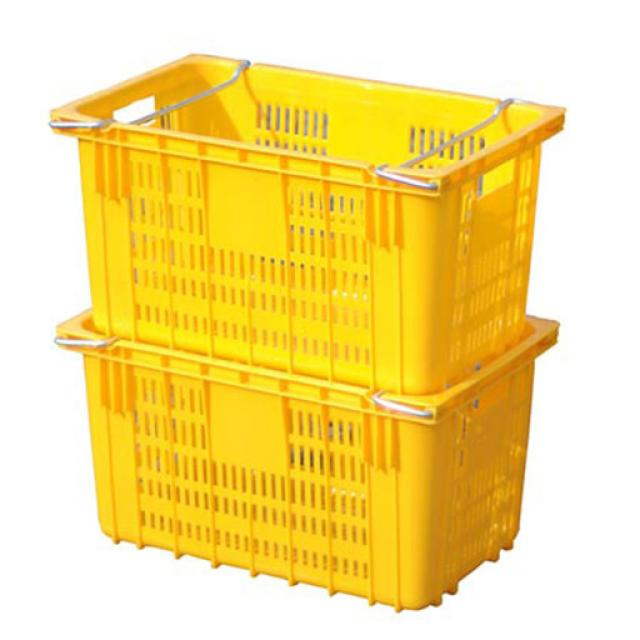basket: (18, 34, 567, 412)
